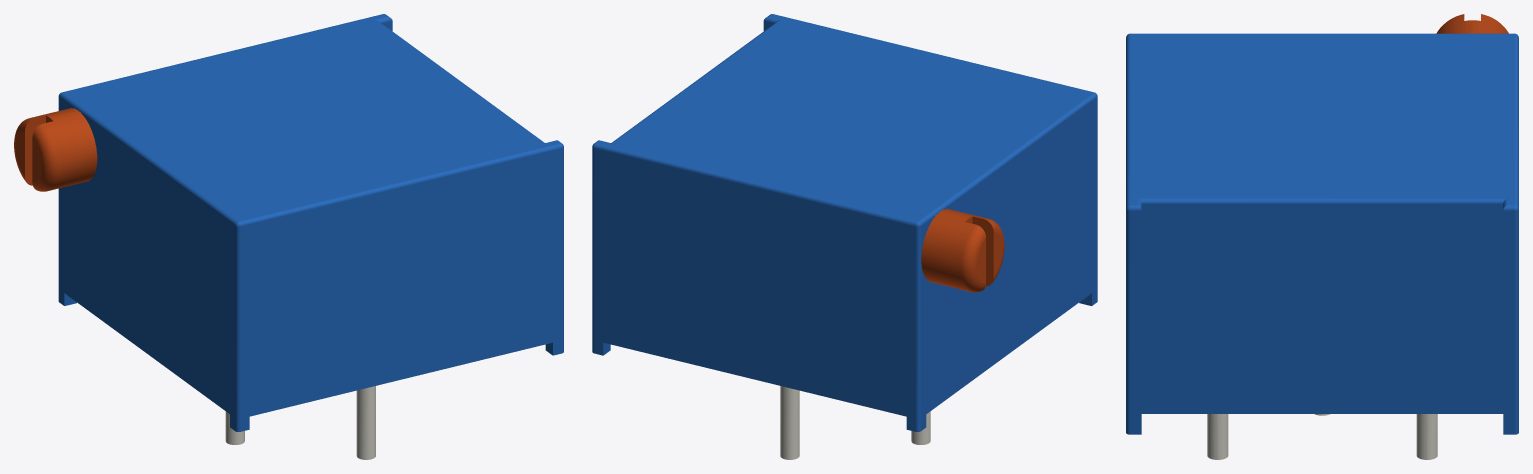
Rendered from kc-potentiometer_bourns_3299p_horizontal.glb.
3 renders of one model, left to right at view 1: azimuth 30°, elevation 25°; view 2: azimuth 150°, elevation 25°; view 3: azimuth 270°, elevation 25°, orthographic. The views are drawn at different scales.
Visible parts, largest first — view 1: 0_0.16666666666666666_0.5_0, 0.4166666666666667_0.08333333333333333_0_0, 0.6666666666666666_0.6666666666666666_0.5833333333333334_0.8; view 2: 0_0.16666666666666666_0.5_0, 0.4166666666666667_0.08333333333333333_0_0, 0.6666666666666666_0.6666666666666666_0.5833333333333334_0.8; view 3: 0_0.16666666666666666_0.5_0, 0.6666666666666666_0.6666666666666666_0.5833333333333334_0.8, 0.4166666666666667_0.08333333333333333_0_0.
Boxes of the visible parts, box(x1,y1,x2,y2) form: 0_0.16666666666666666_0.5_0: box(58, 14, 563, 431); 0.4166666666666667_0.08333333333333333_0_0: box(14, 108, 97, 191); 0.6666666666666666_0.6666666666666666_0.5833333333333334_0.8: box(225, 386, 375, 459); 0_0.16666666666666666_0.5_0: box(592, 14, 1097, 431); 0.4166666666666667_0.08333333333333333_0_0: box(921, 209, 1004, 292); 0.6666666666666666_0.6666666666666666_0.5833333333333334_0.8: box(780, 386, 930, 459); 0_0.16666666666666666_0.5_0: box(1126, 33, 1518, 434); 0.6666666666666666_0.6666666666666666_0.5833333333333334_0.8: box(1207, 414, 1437, 459); 0.4166666666666667_0.08333333333333333_0_0: box(1436, 14, 1508, 33).
Size of the model in its own units: 1.16 by 0.8896 by 0.953.
